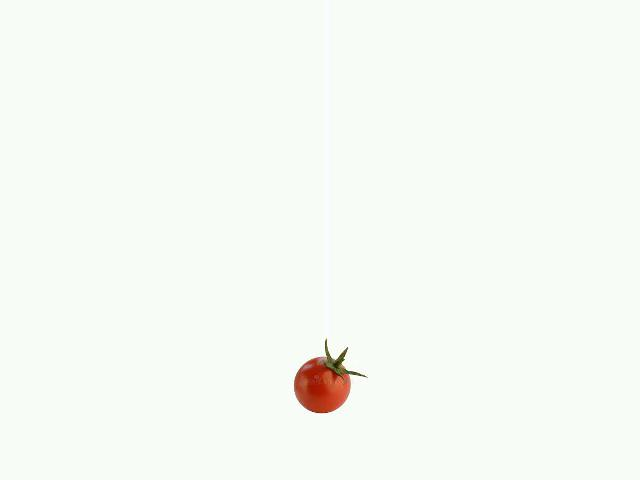tomato: (293, 357, 349, 413)
